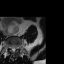CCS_stenosis: (12, 46, 14, 53)
LFS_normal: (16, 44, 18, 51)
LLS_normal: (14, 45, 16, 52)
RFS_stenosis: (8, 44, 10, 50)
RLS_normal: (10, 45, 12, 52)
